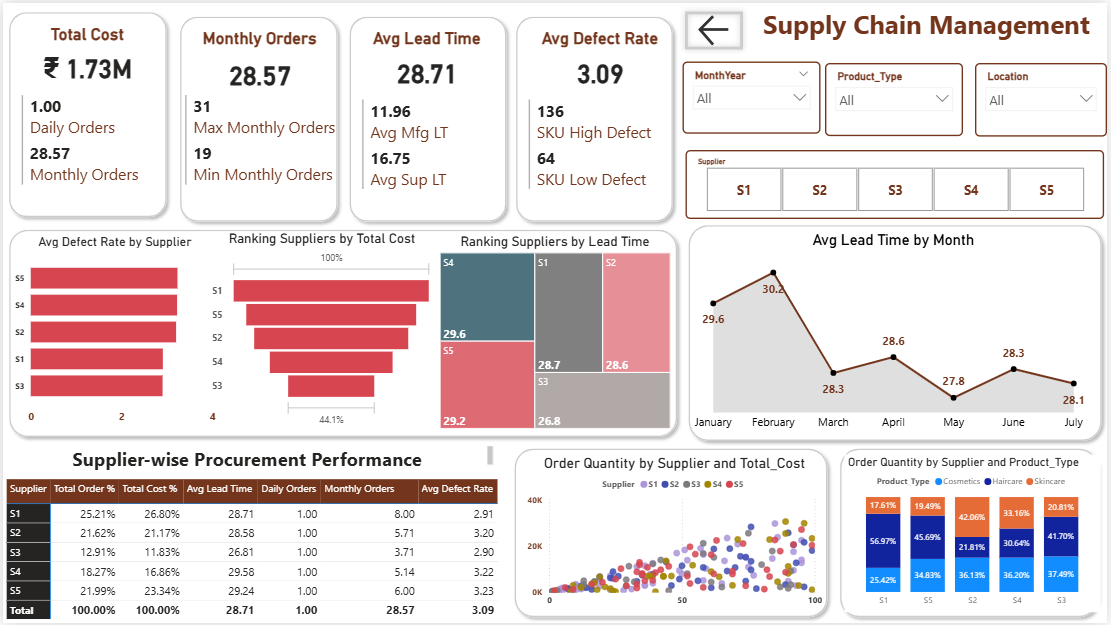

Layout of this report page (visuals, bound fields, positions):
{"tool":"powerbi","page":{"name":"SCM 2","canvas":[1600,900],"ordinal":1},"visuals":[{"type":"group","id":"g1","title":"Group 1","box":[0,5,245,315],"z":0},{"type":"shape","box":[0,5,246,315],"z":0,"group":"g1"},{"type":"shape","box":[247.5,10,246,315],"z":0,"group":"g2"},{"type":"shape","box":[492.5,10,245,315],"z":0,"group":"g3"},{"type":"shape","box":[735,10,245,315],"z":0,"group":"g4"},{"type":"shape","box":[984.4,313.3,616.6,330.6],"z":0,"group":"g5"},{"type":"shape","box":[0,320,986,318.5],"z":0,"group":"g6"},{"type":"group","id":"g2","title":"Group 1","box":[247.5,10,246,315.6],"z":1000},{"type":"multiRowCard","fields":{"Values":["Calendar.Max Monthly Orders","Measure.Monthly Order min"]},"box":[257.5,127.8,231.1,197.8],"z":1000,"group":"g2"},{"type":"multiRowCard","fields":{"Values":["Measure.Daily Orders","Measure.Monthly Orders"]},"box":[22.7,129.4,200.6,190.6],"z":1000,"group":"g1"},{"type":"multiRowCard","fields":{"Values":["Measure.Avg Manufacturing Time","Measure.Avg Supplier Lead Time"]},"box":[515.1,134.4,199.8,190.6],"z":1000,"group":"g3"},{"type":"multiRowCard","fields":{"Values":["Measure.SKU High Defect","Measure.SKU Low Defect"]},"box":[757.6,134.4,199.8,190.6],"z":1000,"group":"g4"},{"type":"shape","box":[733.3,637.8,471.1,262.2],"z":1000,"group":"g7"},{"type":"shape","box":[1204.4,637.8,391.1,262.2],"z":1000,"group":"g8"},{"type":"group","id":"g3","title":"Group 1","box":[492.5,10,245,315],"z":2000},{"type":"funnel","title":"Ranking Suppliers by Total Cost","fields":{"Category":["Sheet1.Supplier"],"Y":["Sum(Sheet1.Total_Cost)"]},"box":[297.8,331.1,328.9,288.9],"z":2000,"group":"g6"},{"type":"group","id":"g4","title":"Group 1","box":[735,10,245,315],"z":3000},{"type":"treemap","title":"Ranking Suppliers by Lead Time","fields":{"Group":["Sheet1.Supplier"],"Values":["Measure.Avg Lead Time"]},"box":[628.6,336,343.3,286.5],"z":3000,"group":"g6"},{"type":"card","title":"Total Cost","fields":{"Values":["Measure.Total Cost"]},"box":[12,30.9,218.3,95.6],"z":3001,"group":"g1"},{"type":"card","title":"Monthly Orders","fields":{"Values":["Measure.Monthly Orders"]},"box":[260.2,36.1,222.3,101.9],"z":3001,"group":"g2"},{"type":"card","title":"Avg Lead Time","fields":{"Values":["Measure.Avg Lead Time"]},"box":[493.8,36.4,237.3,97.7],"z":3001,"group":"g3"},{"type":"card","title":"Avg Defect Rate","fields":{"Values":["Measure.Avg Defect Rate"]},"box":[754,36.4,221.8,97.7],"z":3001,"group":"g4"},{"type":"group","id":"g5","title":"Group 1","box":[984.4,313.3,615.6,331.1],"z":4000},{"type":"group","id":"g6","title":"Group 2","box":[0,320,986,318.5],"z":5000},{"type":"pivotTable","fields":{"Rows":["Sheet1.Supplier"],"Values":["Measure.Total Order %","Measure.Total Cost %","Measure.Avg Lead Time","Measure.Daily Orders","Measure.Monthly Orders","Measure.Avg Defect Rate"]},"box":[0,684.8,730.4,215.2],"z":6000},{"type":"textbox","box":[0,637,715.2,47.8],"z":7000},{"type":"textbox","box":[1080,0,515.6,77.8],"z":8000},{"type":"slicer","fields":{"Values":["Calendar.MonthYear"]},"box":[984.4,84.4,200,104.4],"z":9000},{"type":"slicer","fields":{"Values":["Sheet1.Supplier"]},"box":[988.9,213.3,606.7,100],"z":10000},{"type":"slicer","fields":{"Values":["Sheet1.Product_Type"]},"box":[1192,86,200,106],"z":11000},{"type":"slicer","fields":{"Values":["Sheet1.Location"]},"box":[1408.9,86.7,191.1,106.7],"z":12000},{"type":"group","id":"g7","title":"Group 3","box":[733.3,637.8,471.1,262.2],"z":13000},{"type":"group","id":"g8","title":"Group 3","box":[1204.4,637.8,391.1,262.2],"z":14000},{"type":"lineChart","title":"Avg Lead Time by Month","fields":{"Category":["Calendar.MonthName"],"Y":["Measure.Avg Lead Time"]},"box":[988.9,331.1,602.2,297.8],"z":15000},{"type":"barChart","fields":{"Category":["Sheet1.Supplier"],"Y":["Measure.Avg Defect Rate"]},"box":[11.1,335.6,302.2,284.4],"z":16000},{"type":"scatterChart","fields":{"Y":["Sum(Sheet1.Total_Cost)"],"X":["Measure.Order Quantity"],"Series":["Sheet1.Supplier"]},"box":[753.3,653.3,437.8,228.9],"z":17000},{"type":"hundredPercentStackedColumnChart","fields":{"Category":["Sheet1.Supplier"],"Series":["Sheet1.Product_Type"],"Y":["Measure.Order Quantity"]},"box":[1220,653.3,371.1,228.9],"z":18000},{"type":"actionButton","box":[980,4.4,100,71],"z":20001}]}

Visuals, with their boxes in screenshot pixels (x1, y1, x2, y2), scaled from the page's 1600x900 canvas onto the 1111x625 screenshot:
"Group 1" group: {"left": 0, "top": 3, "right": 170, "bottom": 222}
shape: {"left": 0, "top": 3, "right": 171, "bottom": 222}
shape: {"left": 172, "top": 7, "right": 343, "bottom": 226}
shape: {"left": 342, "top": 7, "right": 512, "bottom": 226}
shape: {"left": 510, "top": 7, "right": 680, "bottom": 226}
shape: {"left": 684, "top": 218, "right": 1110, "bottom": 447}
shape: {"left": 0, "top": 222, "right": 685, "bottom": 443}
"Group 1" group: {"left": 172, "top": 7, "right": 343, "bottom": 226}
multiRowCard - Calendar.Max Monthly Orders x Measure.Monthly Order min: {"left": 179, "top": 89, "right": 339, "bottom": 226}
multiRowCard - Measure.Daily Orders x Measure.Monthly Orders: {"left": 16, "top": 90, "right": 155, "bottom": 222}
multiRowCard - Measure.Avg Manufacturing Time x Measure.Avg Supplier Lead Time: {"left": 358, "top": 93, "right": 496, "bottom": 226}
multiRowCard - Measure.SKU High Defect x Measure.SKU Low Defect: {"left": 526, "top": 93, "right": 665, "bottom": 226}
shape: {"left": 509, "top": 443, "right": 836, "bottom": 624}
shape: {"left": 836, "top": 443, "right": 1108, "bottom": 624}
"Group 1" group: {"left": 342, "top": 7, "right": 512, "bottom": 226}
"Ranking Suppliers by Total Cost" funnel: {"left": 207, "top": 230, "right": 435, "bottom": 431}
"Group 1" group: {"left": 510, "top": 7, "right": 680, "bottom": 226}
"Ranking Suppliers by Lead Time" treemap: {"left": 436, "top": 233, "right": 675, "bottom": 432}
"Total Cost" card: {"left": 8, "top": 21, "right": 160, "bottom": 88}
"Monthly Orders" card: {"left": 181, "top": 25, "right": 335, "bottom": 96}
"Avg Lead Time" card: {"left": 343, "top": 25, "right": 508, "bottom": 93}
"Avg Defect Rate" card: {"left": 524, "top": 25, "right": 678, "bottom": 93}
"Group 1" group: {"left": 684, "top": 218, "right": 1110, "bottom": 448}
"Group 2" group: {"left": 0, "top": 222, "right": 685, "bottom": 443}
pivotTable - Sheet1.Supplier x Measure.Total Order %: {"left": 0, "top": 476, "right": 507, "bottom": 624}
textbox: {"left": 0, "top": 442, "right": 497, "bottom": 476}
textbox: {"left": 750, "top": 0, "right": 1108, "bottom": 54}
slicer - Calendar.MonthYear: {"left": 684, "top": 59, "right": 822, "bottom": 131}
slicer - Sheet1.Supplier: {"left": 687, "top": 148, "right": 1108, "bottom": 218}
slicer - Sheet1.Product_Type: {"left": 828, "top": 60, "right": 967, "bottom": 133}
slicer - Sheet1.Location: {"left": 978, "top": 60, "right": 1110, "bottom": 134}
"Group 3" group: {"left": 509, "top": 443, "right": 836, "bottom": 624}
"Group 3" group: {"left": 836, "top": 443, "right": 1108, "bottom": 624}
"Avg Lead Time by Month" lineChart: {"left": 687, "top": 230, "right": 1105, "bottom": 437}
barChart - Sheet1.Supplier x Measure.Avg Defect Rate: {"left": 8, "top": 233, "right": 218, "bottom": 431}
scatterChart - Sum(Sheet1.Total_Cost) x Measure.Order Quantity: {"left": 523, "top": 454, "right": 827, "bottom": 613}
hundredPercentStackedColumnChart - Sheet1.Supplier x Sheet1.Product_Type: {"left": 847, "top": 454, "right": 1105, "bottom": 613}
actionButton: {"left": 680, "top": 3, "right": 750, "bottom": 52}
